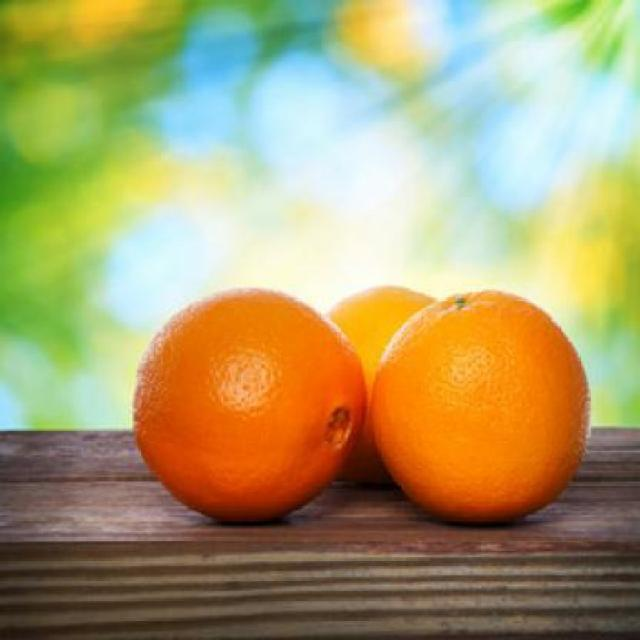Jeruk Sudah Matang: (128, 286, 368, 532), (370, 286, 596, 520), (284, 276, 460, 473)
